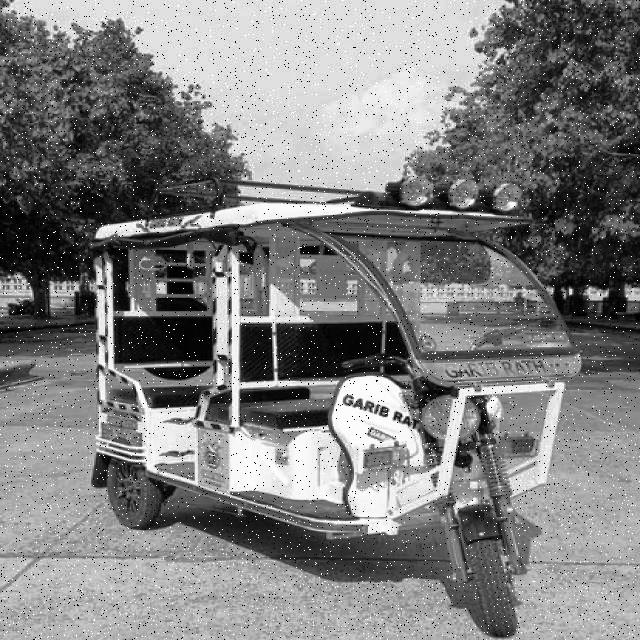Toto: (83, 198, 577, 640)
